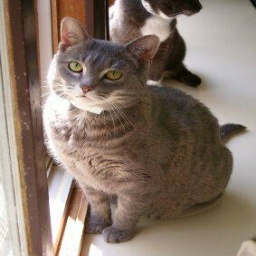cat: (37, 19, 243, 246)
